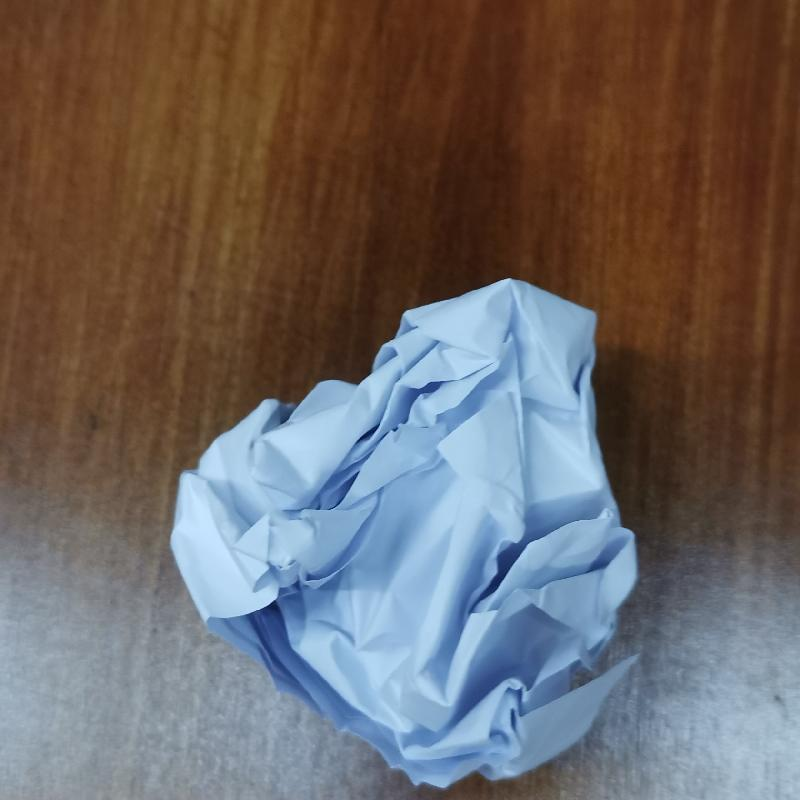spitball: (165, 270, 645, 796)
